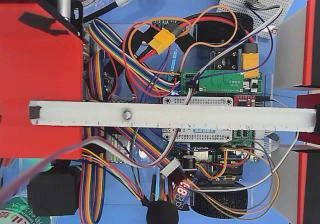ironball: (122, 109, 131, 119)
